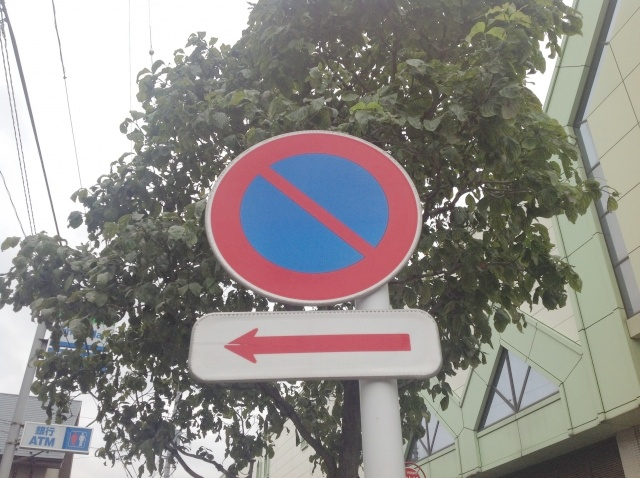Prohibition_sign: (195, 128, 438, 305)
